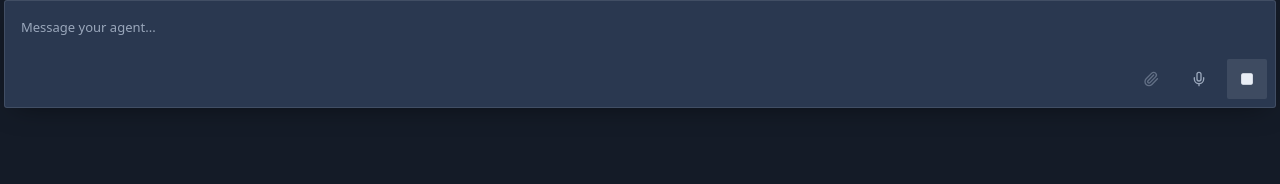
it: Composer › send-while-busy queue (C2) › enqueues a submit while running (does not send) and clears the input
Type "while busy" into the text box labelled "Message your agent".
click(640, 31); type("while busy")  # box x1=13 y1=9 x2=1267 y2=53
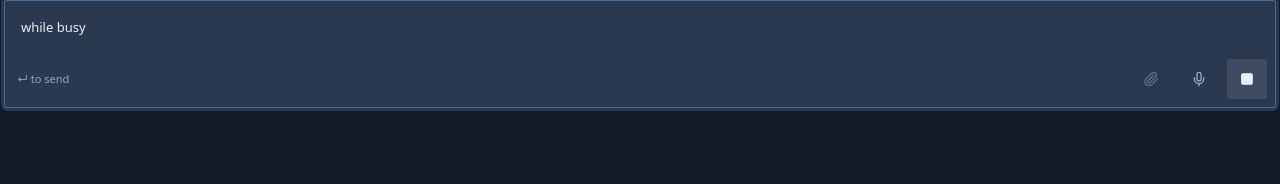
Press Enter
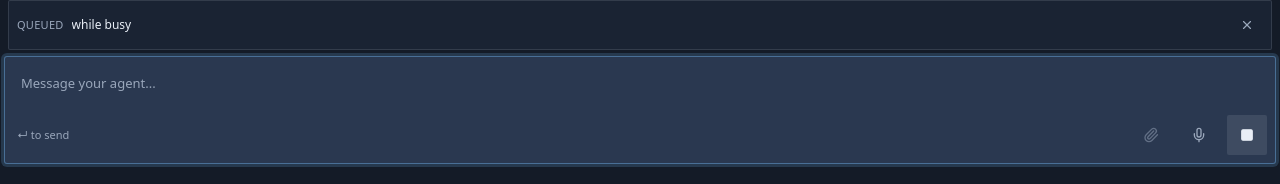
Expected: the text box labelled "Message your agent" is empty, x1=13 y1=65 x2=1267 y2=109
Expected: the text "while busy" is shown, x1=72 y1=16 x2=131 y2=33
